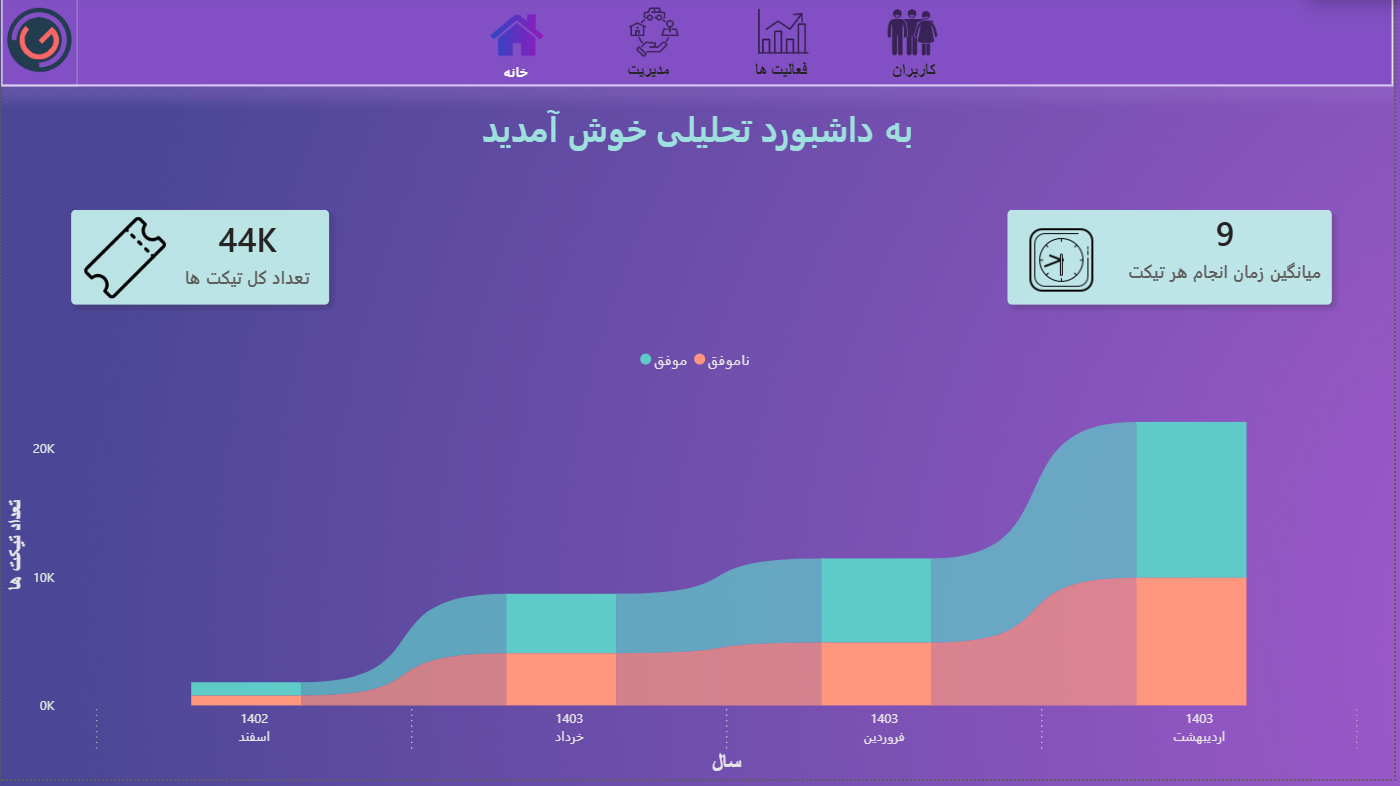

What the dashboard file says about the page in this screenshot:
{"tool":"powerbi","page":{"name":"خانه","canvas":[1280,720],"ordinal":0},"visuals":[{"type":"shape","box":[0,0,1279.8,83.2],"z":0},{"type":"image","box":[0,0,70.8,83.2],"z":1000},{"type":"image","box":[428.3,7.2,89,59.8],"z":2000,"group":"g1"},{"type":"ribbonChart","fields":{"Y":["CountNonNull(TrReport (2).ObjectId)"],"Category":["Calender.MonthName","Calender.J_Year"],"Series":["TrReport (2).Succsessfulness"]},"box":[0,313.4,1280,407.1],"z":2000},{"type":"image","box":[796.8,6,80.5,50.4],"z":3000,"group":"g1"},{"type":"cardVisual","fields":{"Data":["CountNonNull(TrReport (2).ObjectId)"]},"box":[36,168.1,295.4,145.3],"z":3000},{"type":"image","box":[676.5,9.7,84.9,46.5],"z":4000,"group":"g1"},{"type":"textbox","box":[355.8,95.3,568.6,64],"z":4000},{"type":"image","box":[559.5,6.3,80.5,50.4],"z":5000,"group":"g1"},{"type":"cardVisual","fields":{"Data":["Avg(TrReport (2).Bus Hours Open)"]},"box":[896.2,167.6,356.2,145.2],"z":5000},{"type":"group","id":"g1","title":"Group 1","box":[417.1,6,479.1,77],"z":6000},{"type":"pageNavigator","box":[417.1,54.4,479.1,28.5],"z":9001,"group":"g1"}]}

Visuals, with their boxes in screenshot pixels (x1, y1, x2, y2), scaled from the page's 1280x720 canvas onto the 1400x786 screenshot:
shape: rect(0, 0, 1399, 91)
image: rect(0, 0, 77, 91)
image: rect(468, 8, 566, 73)
ribbonChart - CountNonNull(TrReport (2).ObjectId) x Calender.MonthName: rect(0, 342, 1399, 785)
image: rect(872, 7, 960, 62)
cardVisual - CountNonNull(TrReport (2).ObjectId): rect(39, 184, 362, 342)
image: rect(740, 11, 833, 61)
textbox: rect(389, 104, 1011, 174)
image: rect(612, 7, 700, 62)
cardVisual - Avg(TrReport (2).Bus Hours Open): rect(980, 183, 1370, 341)
"Group 1" group: rect(456, 7, 980, 91)
pageNavigator: rect(456, 59, 980, 90)
